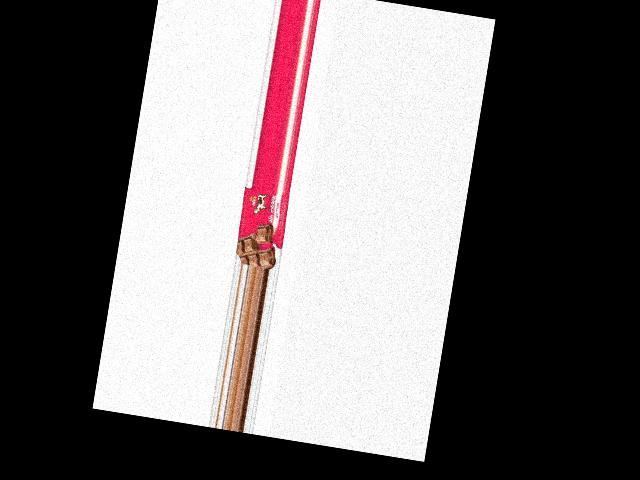chocolate: (234, 186, 291, 270)
